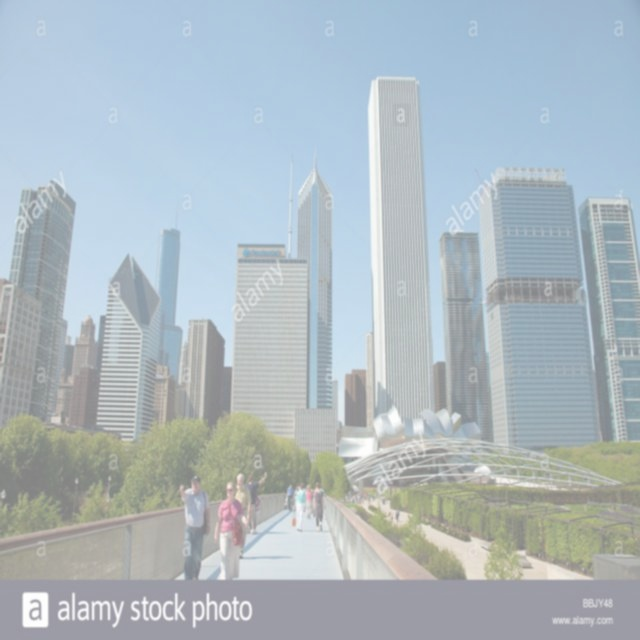pessoa: (178, 475, 210, 591), (214, 480, 248, 580), (232, 472, 252, 559), (245, 470, 268, 536), (342, 486, 388, 506), (290, 482, 306, 532), (311, 482, 326, 532), (296, 486, 317, 516), (248, 492, 262, 534), (304, 483, 312, 519), (318, 482, 325, 516), (286, 483, 294, 511), (292, 485, 299, 502), (318, 483, 324, 493), (396, 508, 400, 522), (390, 511, 393, 523), (388, 510, 390, 520)
